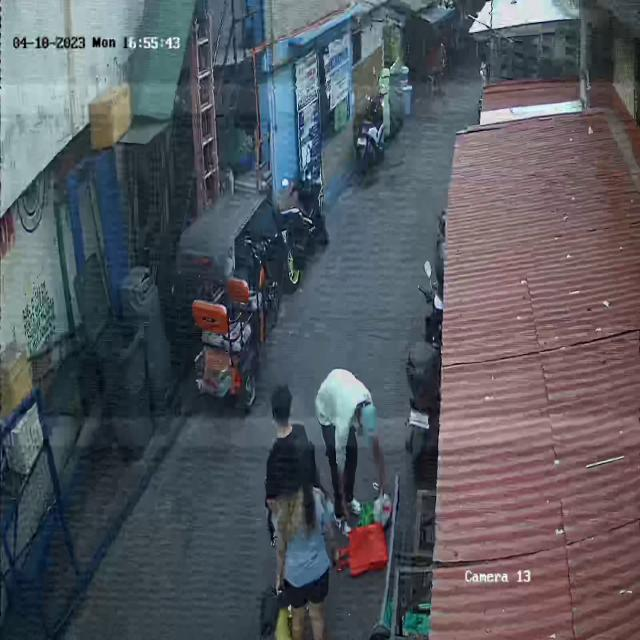human: (315, 367, 392, 574), (262, 441, 334, 640), (258, 381, 318, 566)
trash: (340, 471, 392, 577), (261, 582, 292, 640)
